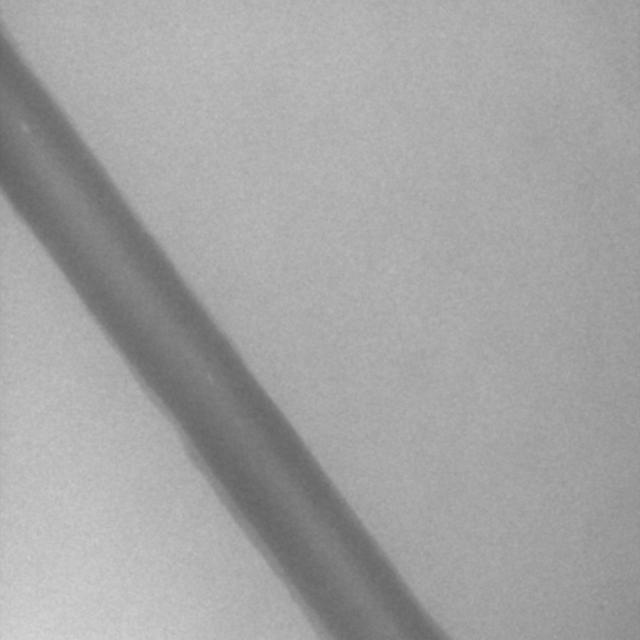air-hole: (204, 366, 215, 380), (19, 118, 28, 133), (233, 416, 243, 426)
